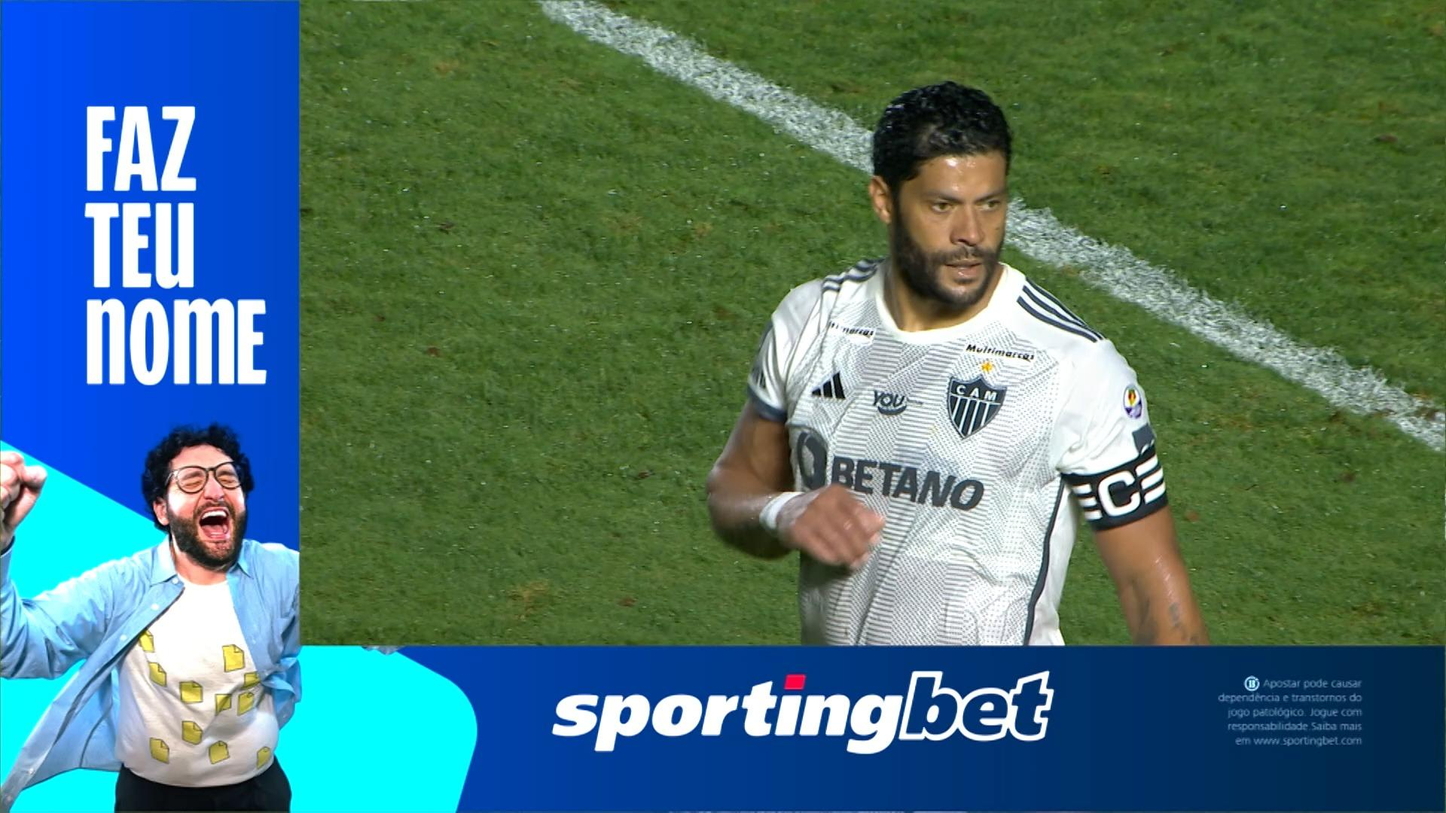objects: (2, 2, 1444, 812)
